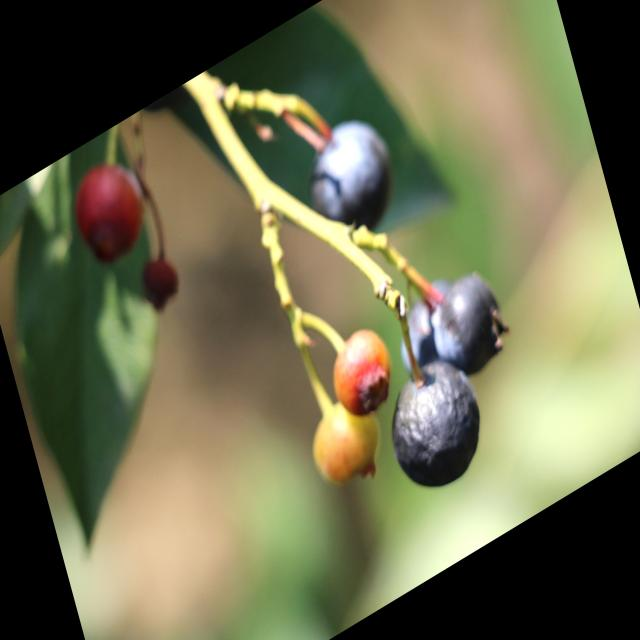blueberry: (372, 330, 498, 516), (285, 90, 409, 266), (415, 252, 520, 398), (382, 261, 474, 393)
blueberry-halfripe: (63, 138, 160, 282), (301, 384, 388, 498), (324, 318, 399, 427)
